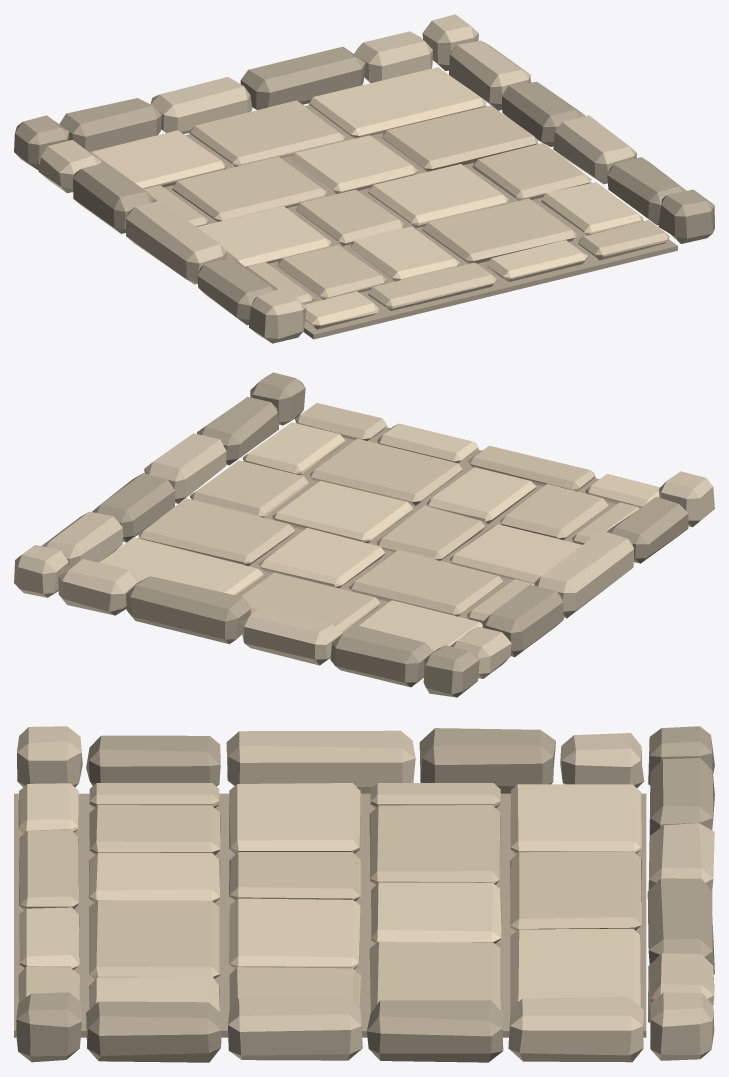
Rendered from path_end.glb.
The picture shows the model from 3 angles, top to bottom: view 1: azimuth 30°, elevation 25°; view 2: azimuth 150°, elevation 25°; view 3: azimuth 270°, elevation 25°; orthographic projection. The views are drawn at different scales.
Visible parts, largest first — view 1: path_end; view 2: path_end; view 3: path_end.
Boxes of the visible parts, left/top/right/bottom form: path_end: left=14, top=14, right=714, bottom=343; path_end: left=14, top=372, right=714, bottom=697; path_end: left=14, top=726, right=714, bottom=1062.
Size of the model in its own units: 1.99 by 0.1707 by 2.
